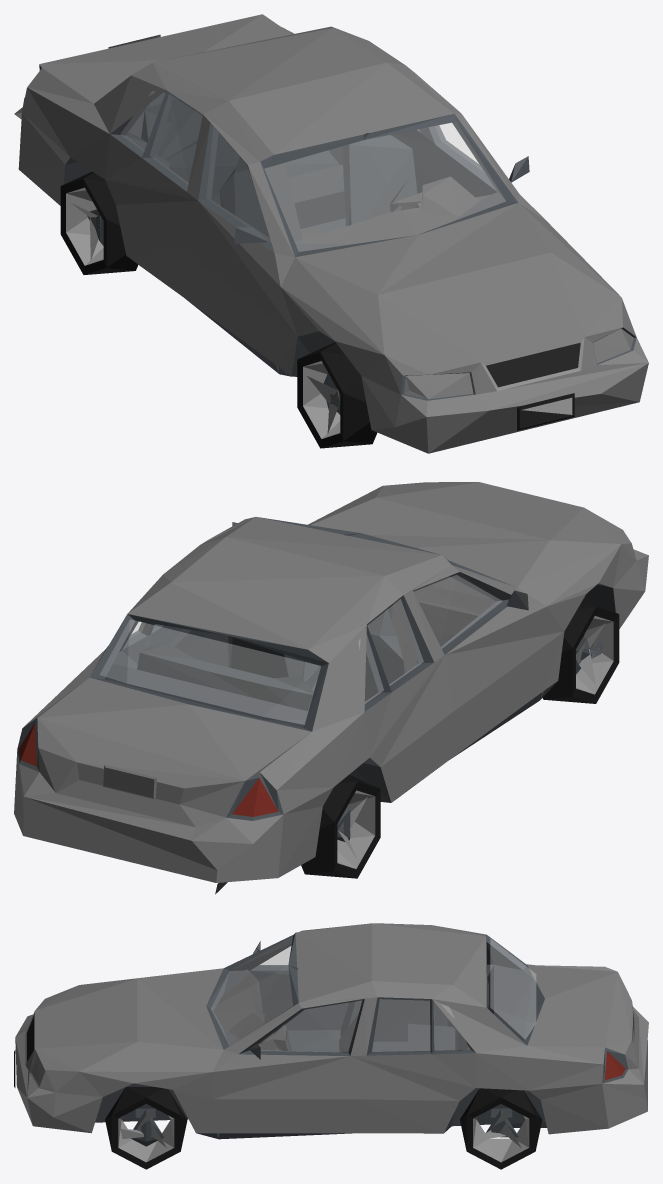
File: sedan.glb
The picture shows the model from 3 angles, top to bottom: view 1: azimuth 30°, elevation 25°; view 2: azimuth 150°, elevation 25°; view 3: azimuth 270°, elevation 25°; orthographic projection. The views are drawn at different scales.
Visible parts, largest first — view 1: sedan; view 2: sedan; view 3: sedan.
Boxes of the visible parts, bbox=[...] form: sedan: bbox=[14, 14, 648, 453]; sedan: bbox=[14, 482, 648, 894]; sedan: bbox=[14, 923, 648, 1169].
Bounding box in the file's own units: 2.07 × 1.5 × 5.16.
Materials: 2 (1 with a texture image).
